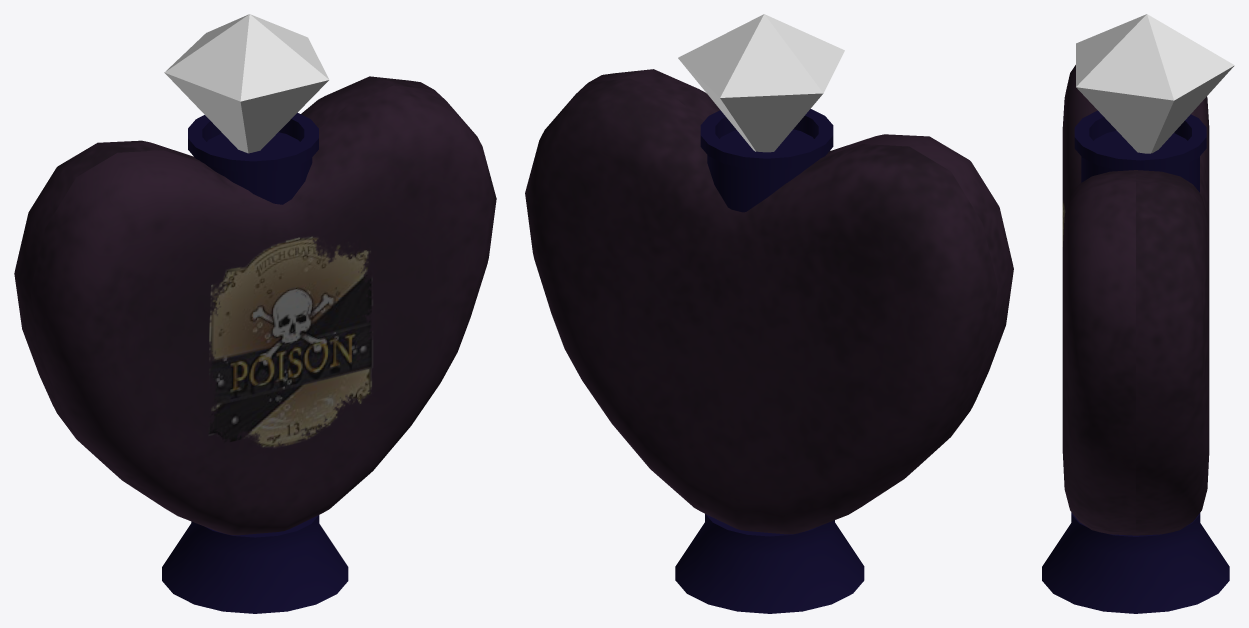
Rendered from HeartShapedBottle.fbx.
3 renders of one model, left to right at view 1: azimuth 30°, elevation 25°; view 2: azimuth 150°, elevation 25°; view 3: azimuth 270°, elevation 25°, orthographic.
Visible parts, largest first — view 1: HeartShapedBottle; view 2: HeartShapedBottle; view 3: HeartShapedBottle.
Part boxes in pixels (x1,y1,x2,y2): HeartShapedBottle: [14, 14, 496, 613]; HeartShapedBottle: [525, 14, 1013, 613]; HeartShapedBottle: [1042, 14, 1234, 613].
Size of the model in its own units: 11.54 by 13.61 by 4.25.
